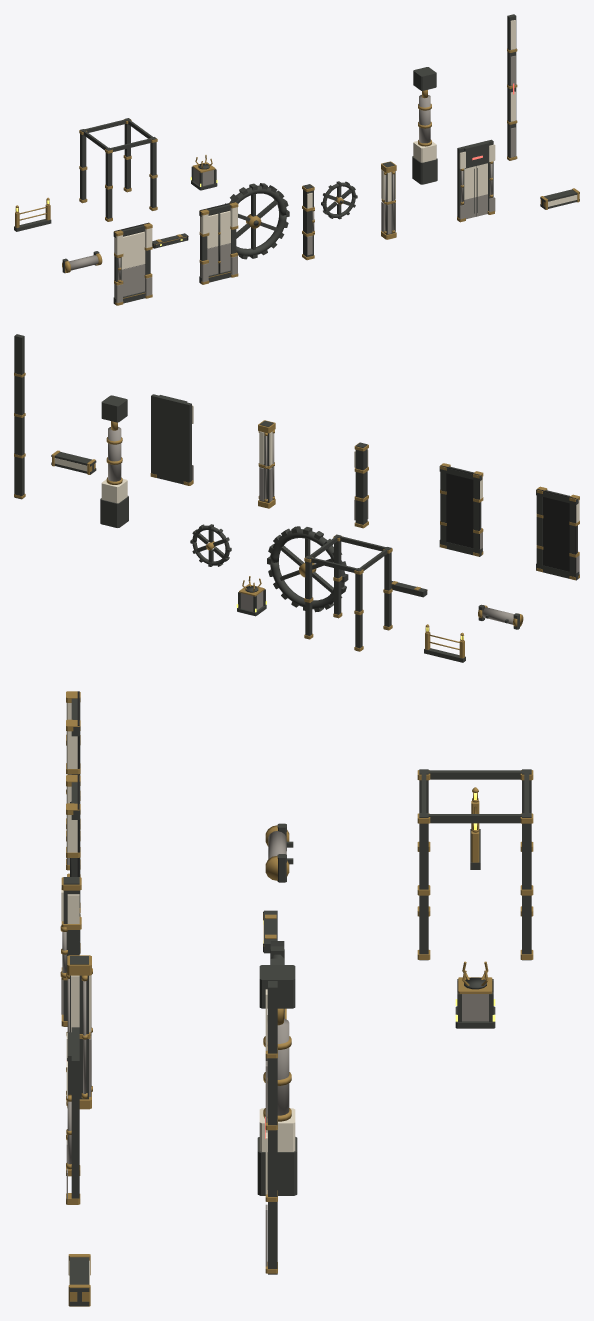
Rendered from kit_ruins_b3.glb.
The picture shows the model from 3 angles, top to bottom: view 1: azimuth 30°, elevation 25°; view 2: azimuth 150°, elevation 25°; view 3: azimuth 270°, elevation 25°; orthographic projection. The views are drawn at different scales.
Visible parts, largest first — view 1: b3_wall, b3_wall_plain, b3_door, b3_lift_frame, b3_piston, b3_gear, b3_rib, b3_pillar, b3_corner, b3_gear_small, b3_orb_base, b3_beam (+2 smaller); view 2: b3_wall, b3_wall_plain, b3_door, b3_lift_frame, b3_piston, b3_gear, b3_rib, b3_pillar, b3_corner, b3_gear_small, b3_orb_base, b3_beam (+2 smaller); view 3: b3_lift_frame, b3_piston, b3_rib, b3_pillar, b3_door, b3_orb_base, b3_corner, b3_wall_plain, b3_wall, b3_pipe, b3_beam.
Boxes of the visible parts, <box> form: b3_wall: <box>113,222,152,305</box>; b3_wall_plain: <box>199,201,238,284</box>; b3_door: <box>457,139,495,222</box>; b3_lift_frame: <box>79,118,157,221</box>; b3_piston: <box>412,67,437,184</box>; b3_gear: <box>225,183,289,259</box>; b3_rib: <box>507,14,517,160</box>; b3_pillar: <box>381,161,396,239</box>; b3_corner: <box>302,184,314,260</box>; b3_gear_small: <box>321,181,357,219</box>; b3_orb_base: <box>190,155,217,190</box>; b3_beam: <box>540,188,579,209</box>; b3_wall: <box>536,486,579,580</box>; b3_wall_plain: <box>439,463,483,556</box>; b3_door: <box>150,394,193,485</box>; b3_lift_frame: <box>304,534,392,651</box>; b3_piston: <box>100,395,128,527</box>; b3_gear: <box>267,526,348,612</box>; b3_rib: <box>14,334,25,499</box>; b3_pillar: <box>258,420,275,508</box>; b3_corner: <box>354,442,368,528</box>; b3_gear_small: <box>190,524,231,566</box>; b3_orb_base: <box>236,576,266,616</box>; b3_beam: <box>51,450,96,474</box>; b3_lift_frame: <box>417,769,533,960</box>; b3_piston: <box>257,965,297,1195</box>; b3_rib: <box>265,981,277,1274</box>; b3_pillar: <box>66,955,92,1109</box>; b3_door: <box>66,1027,80,1204</box>; b3_orb_base: <box>455,961,495,1028</box>; b3_corner: <box>60,877,81,1026</box>; b3_wall_plain: <box>66,775,80,953</box>; b3_wall: <box>66,691,80,870</box>; b3_pipe: <box>265,823,293,882</box>; b3_beam: <box>68,1254,90,1306</box>.
Size of the model in its own units: 27.07 by 10 by 11.94.
